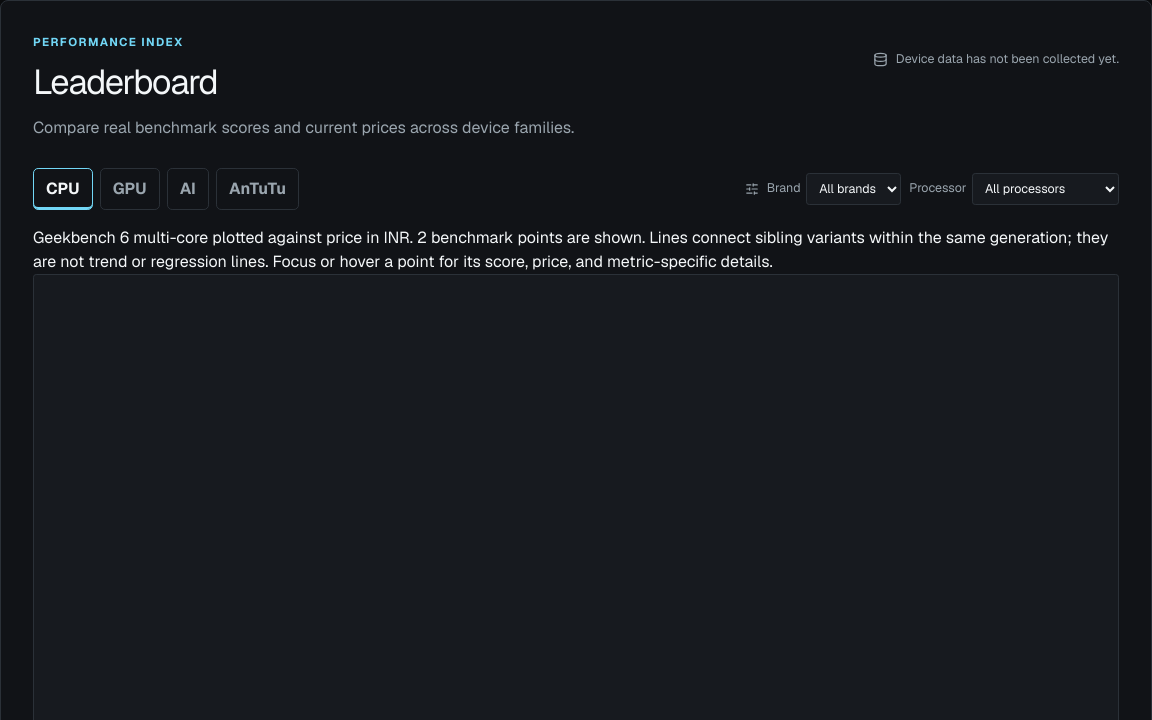
Test: LeaderboardStage › renders the GPU empty state from live benchmark data
The width and height of the screenshot is (1152, 720).
Click the button "GPU".
click(130, 189)  # box [100, 168, 160, 210]
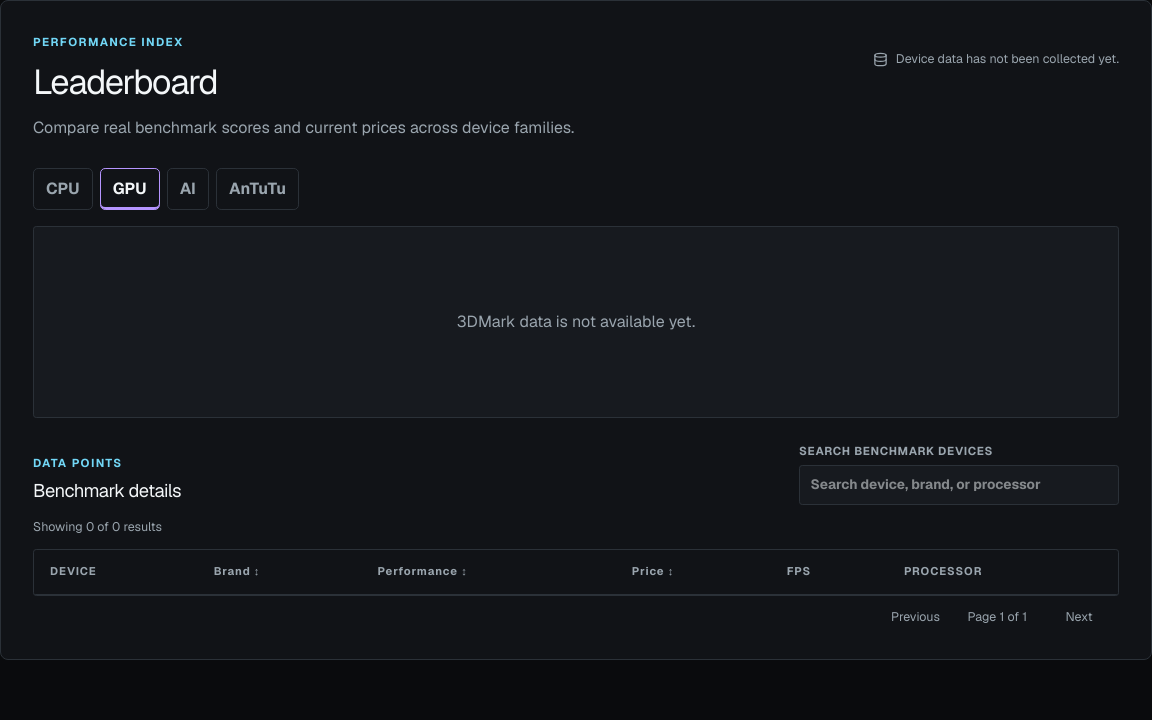
Now the message named "Benchmark availability" reads "3DMark data is not available yet.", box [33, 226, 1119, 418]
